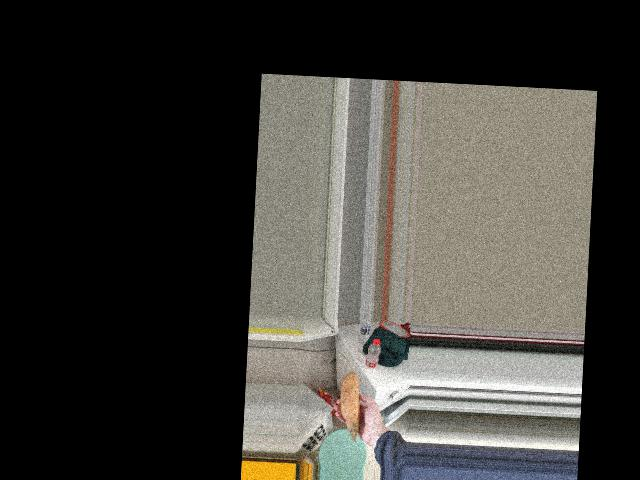sweet_potato: (342, 377, 363, 438)
